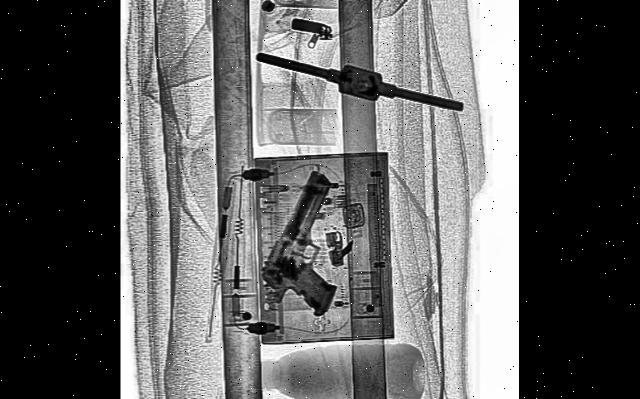Gun: (257, 160, 362, 353)
